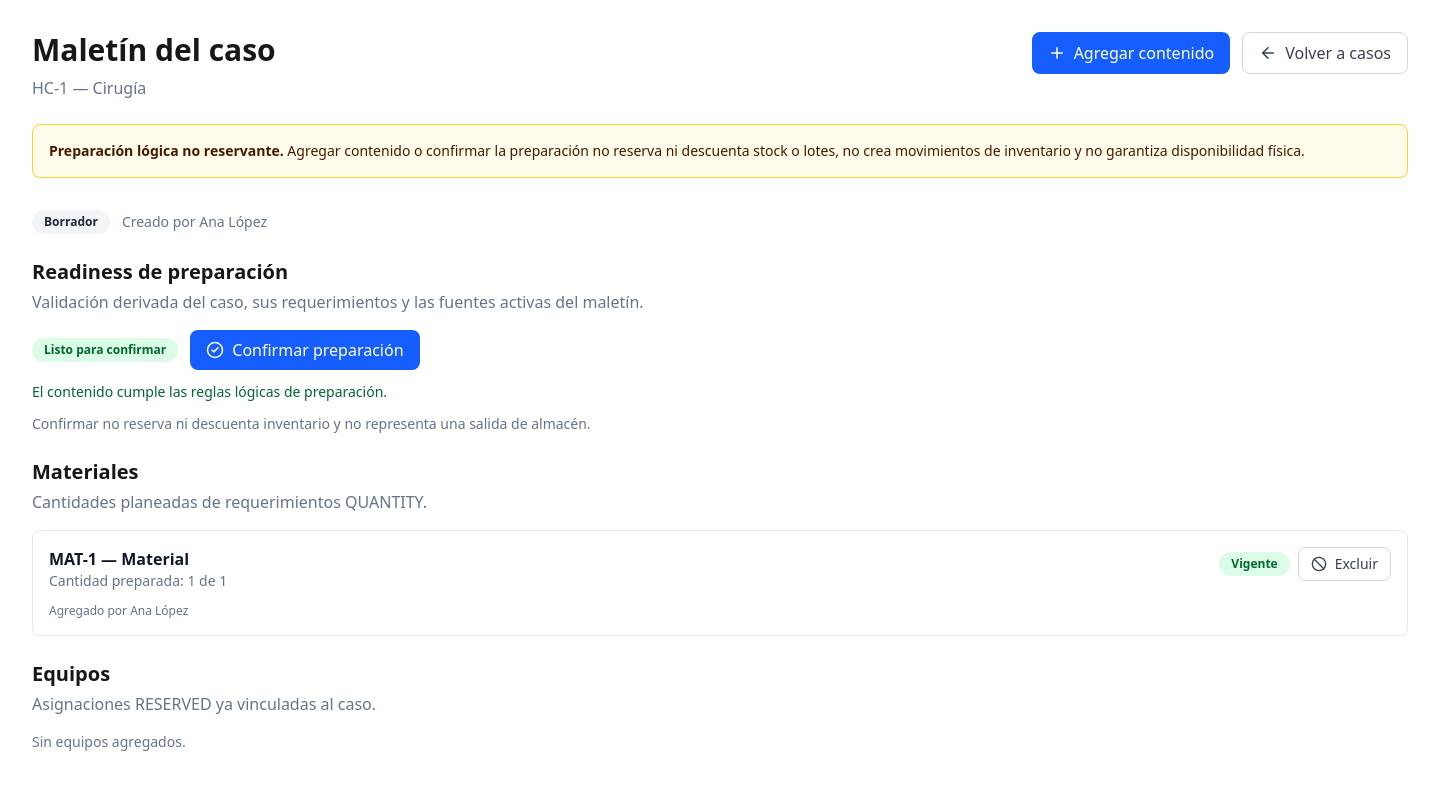
Test: HealthcareCaseKitPage › keeps an exclusion error inside the flow without changing the session
Click the button "Excluir". click: x=1344, y=564
box: [1298,547,1391,581]
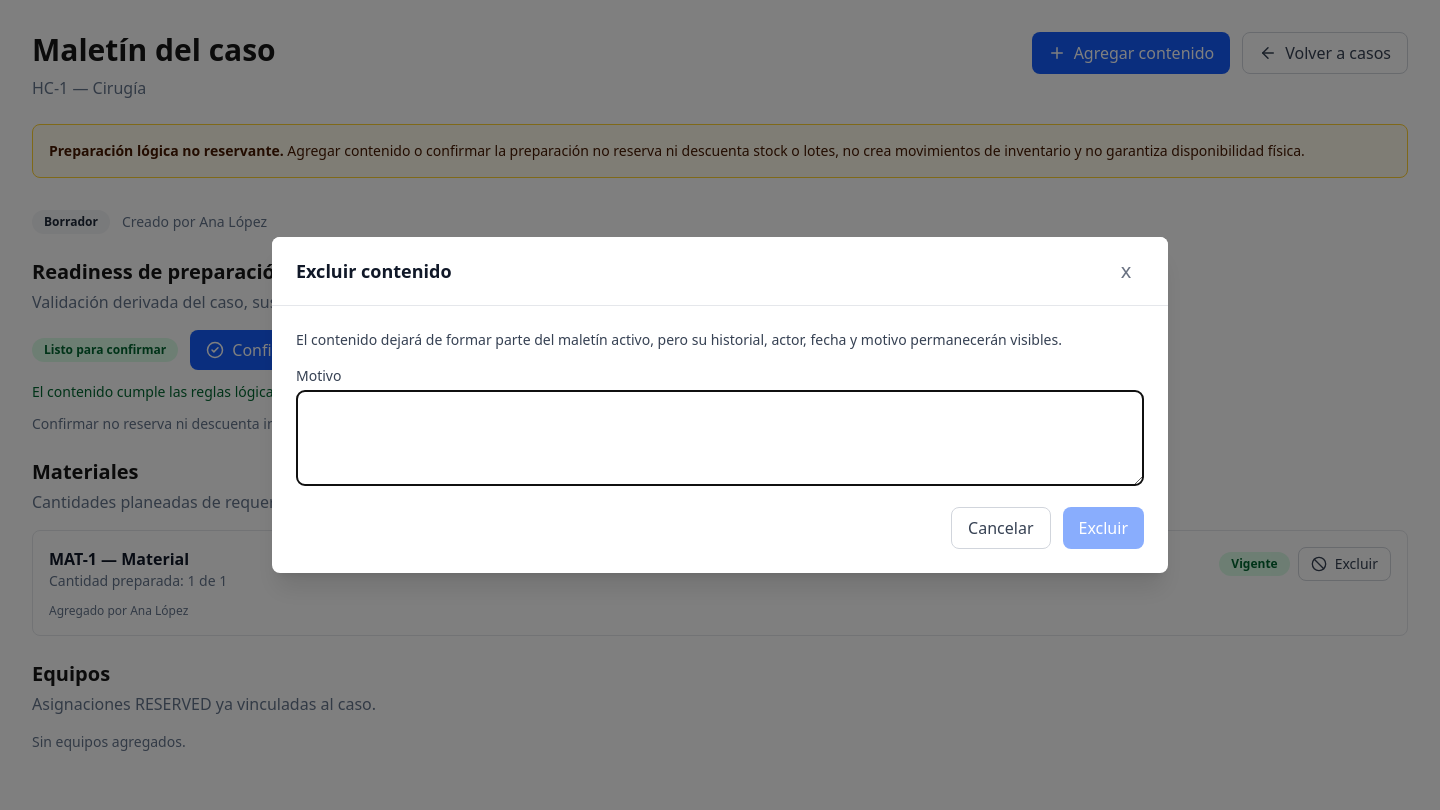
Type "No requerido" into the text box labelled "Motivo". click: x=720, y=438
box: [296,390,1144,486]
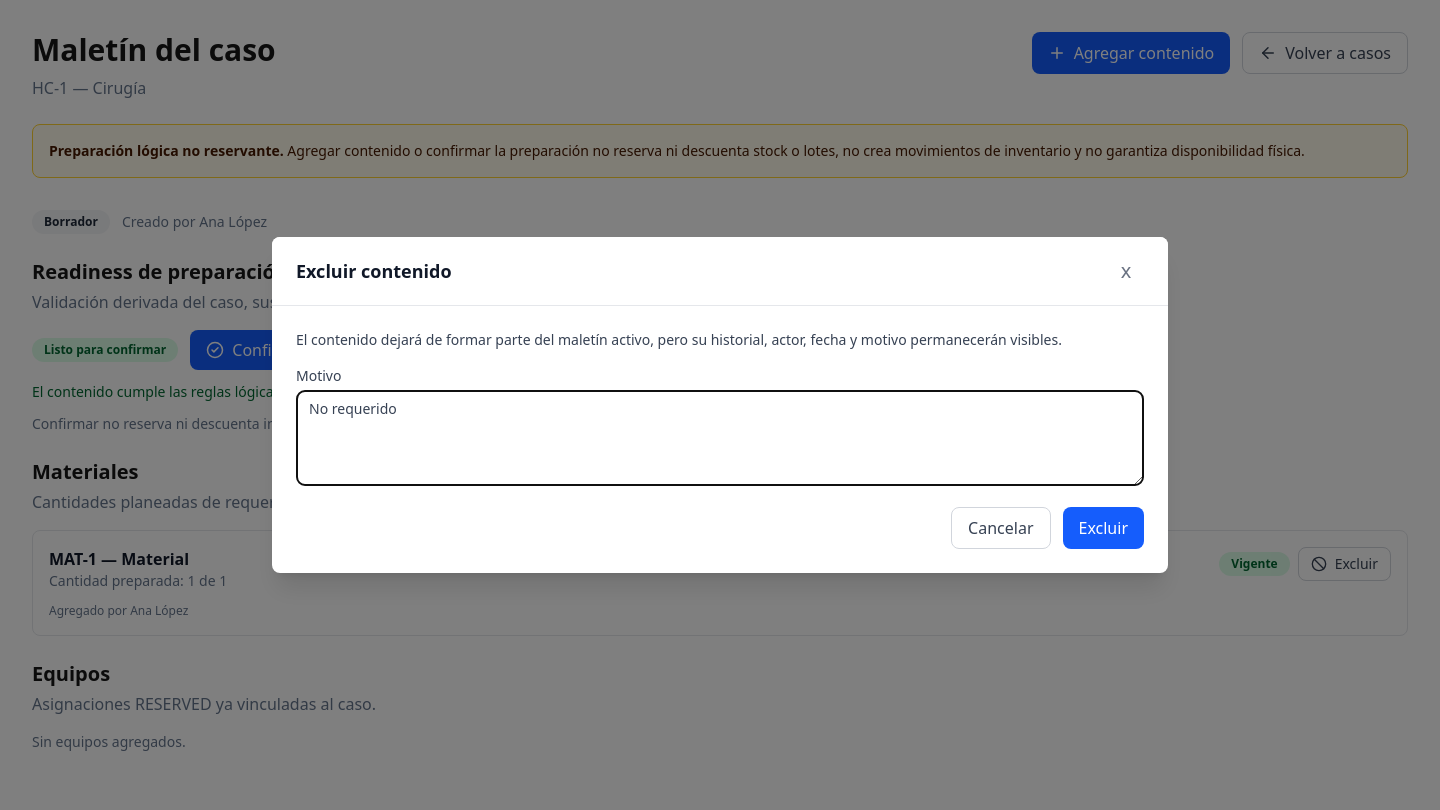
Click the button "Excluir". click: x=1103, y=528
box: [1062,507,1144,549]
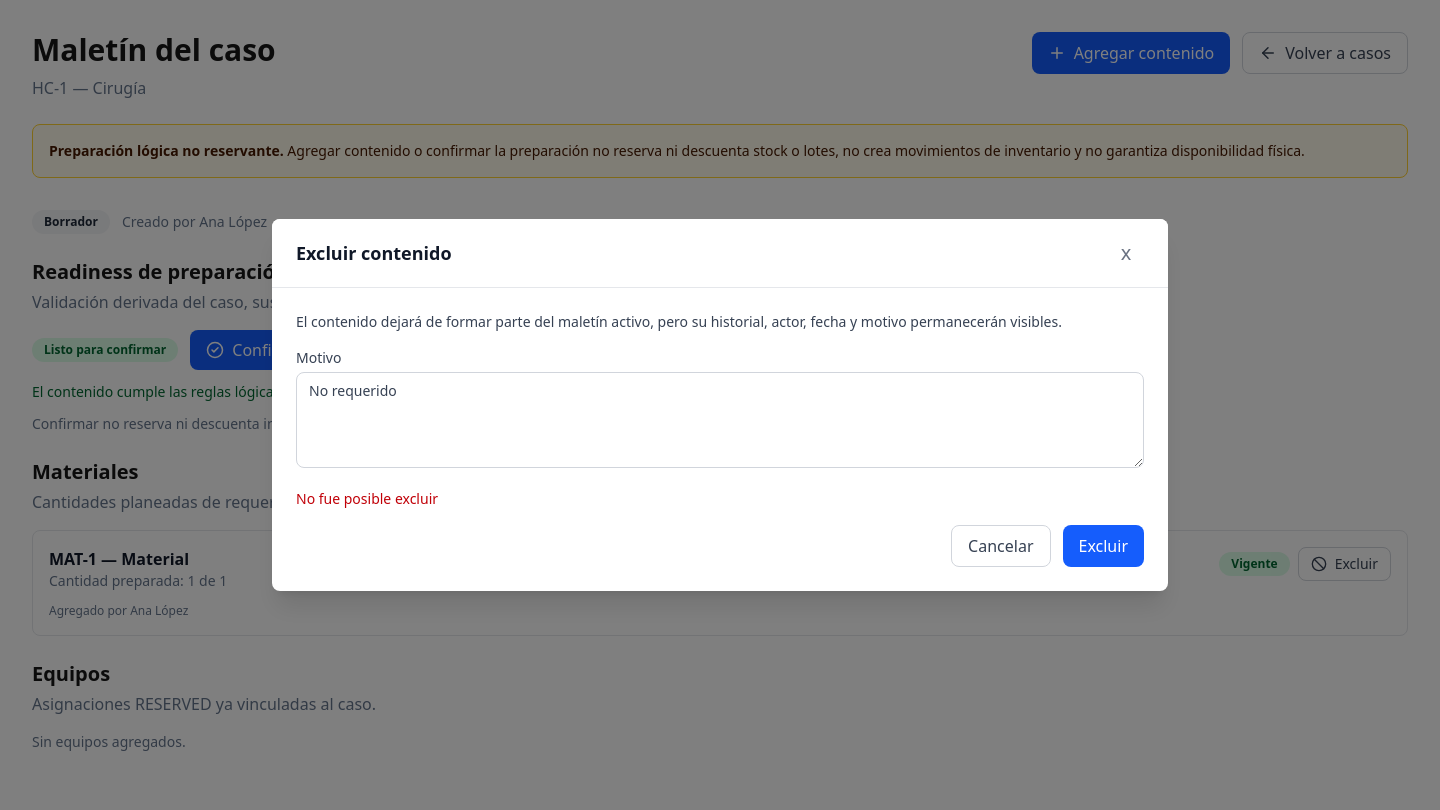
Expected: the dialog is shown, [272,219,1168,591]
Expected: the message reads "No fue posible excluir", [296,489,438,508]
